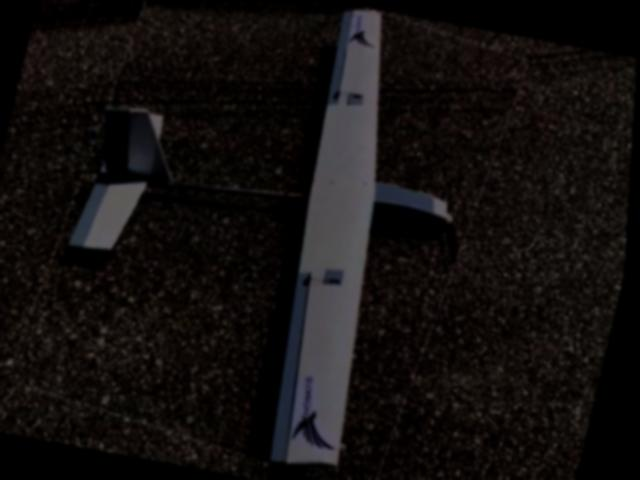insansiz-hava-araci: (14, 0, 523, 480)
